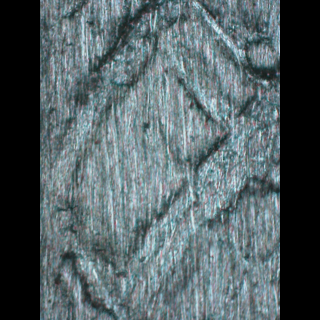d: (62, 0, 276, 316)
